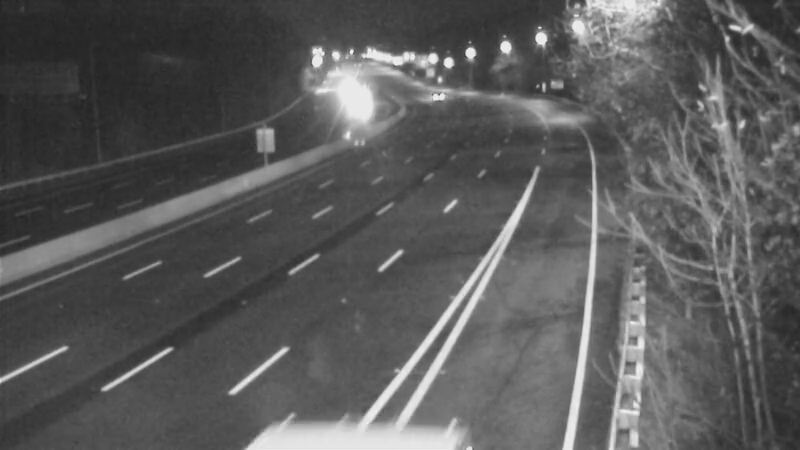vehicle: (405, 70, 455, 120), (328, 82, 378, 132)
